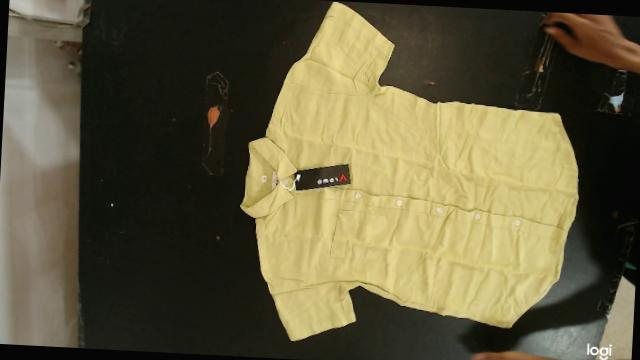new-garment: (240, 2, 577, 340)
